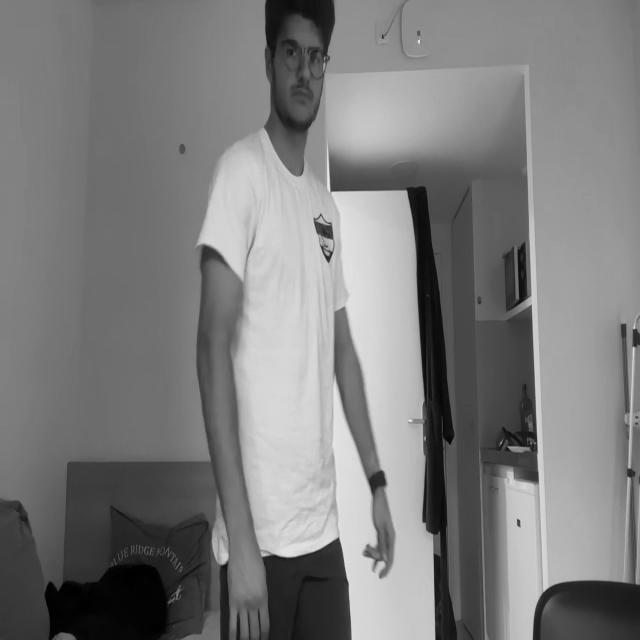elbow: (194, 325, 232, 379), (325, 332, 361, 364)
hand: (362, 484, 398, 580), (227, 555, 266, 640)
shoulder: (208, 143, 258, 231)
